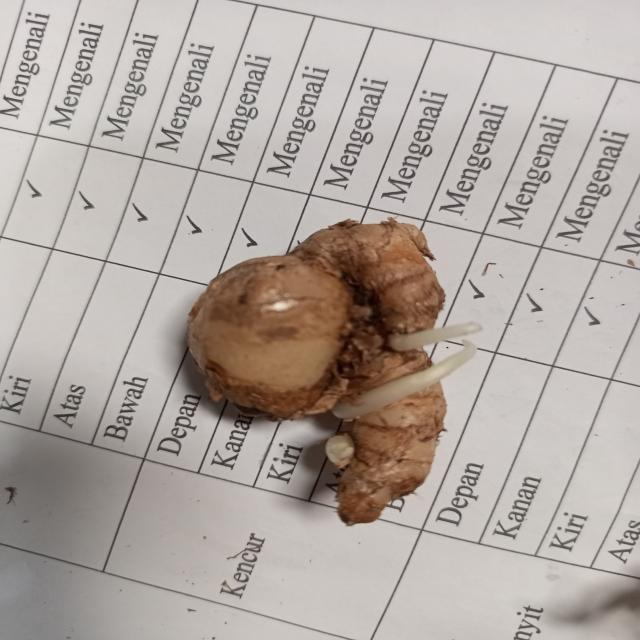ginger: (194, 214, 446, 516)
